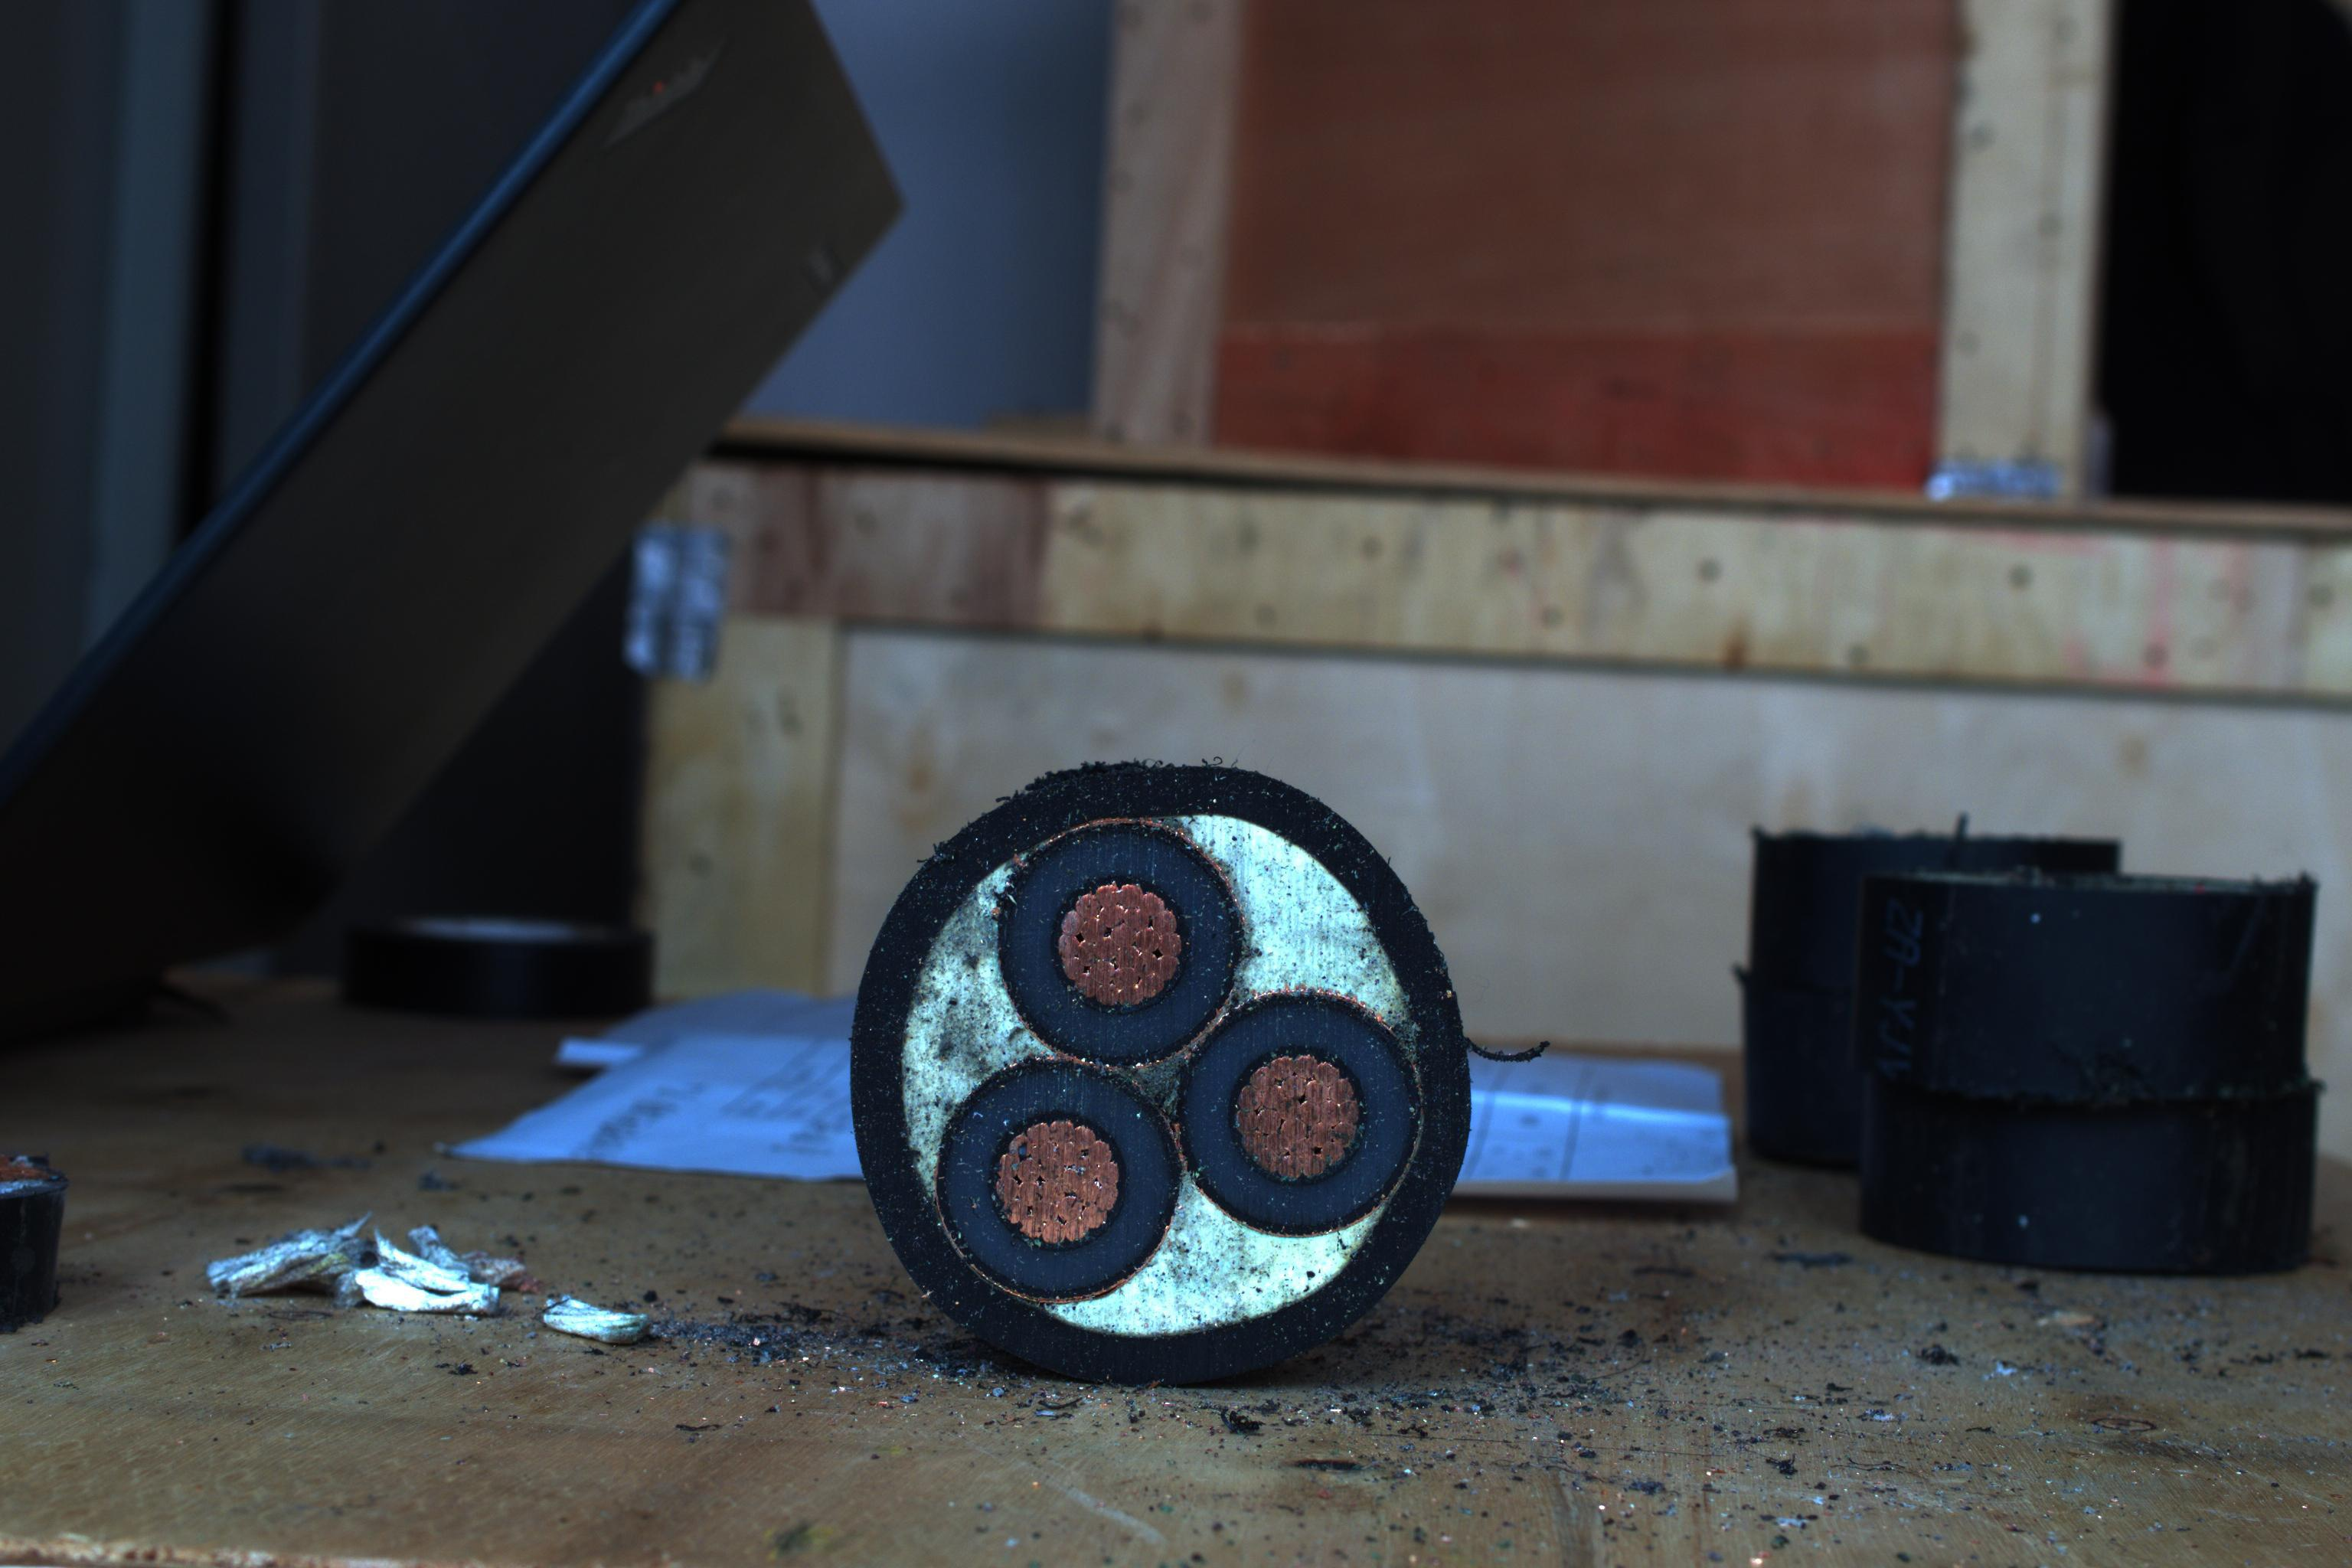ZA_YJV_8.7_10kV_3x120: (873, 784, 1465, 1388)
